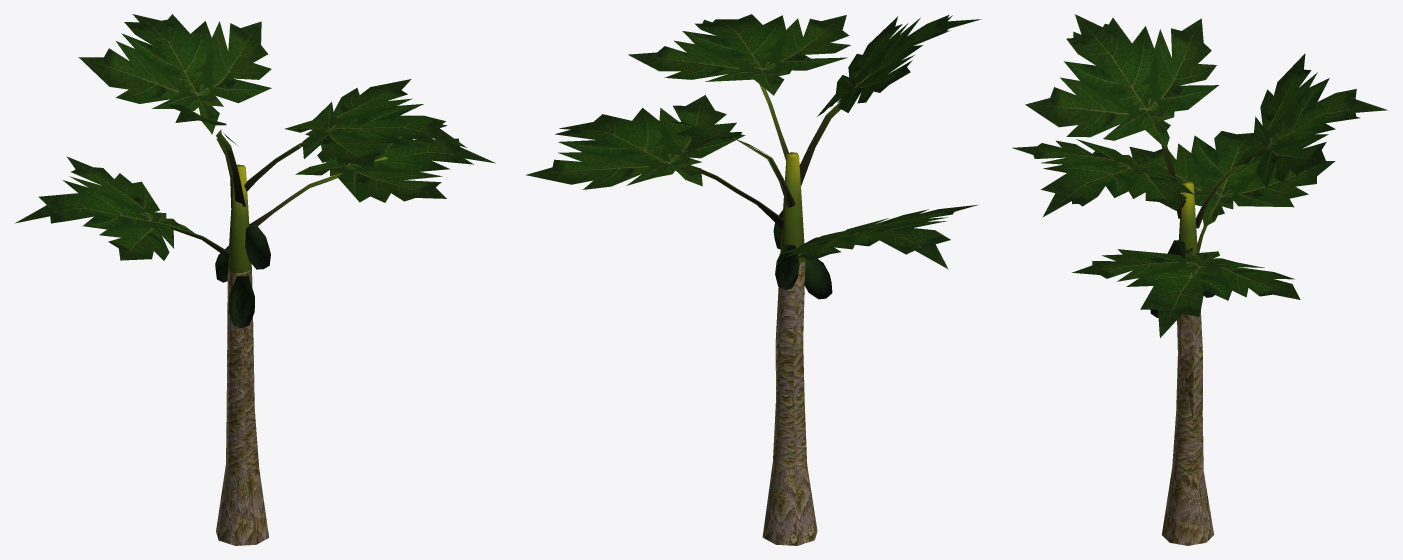
The model's file is cay-du-du.glb.
3 views of the same model, side by side, from view 1: azimuth 30°, elevation 25°; view 2: azimuth 150°, elevation 25°; view 3: azimuth 270°, elevation 25° (orthographic). The views are drawn at different scales.
Parts seen in each view (by area): view 1: CayDuDu; view 2: CayDuDu; view 3: CayDuDu.
Boxes of the visible parts, box(x1,y1,x2,y2) form: CayDuDu: box(15, 14, 495, 545); CayDuDu: box(526, 14, 981, 545); CayDuDu: box(1012, 14, 1387, 545).
Bounding box in the file's own units: 1.99 × 2.15 × 1.59.
1 material, 1 textured.
